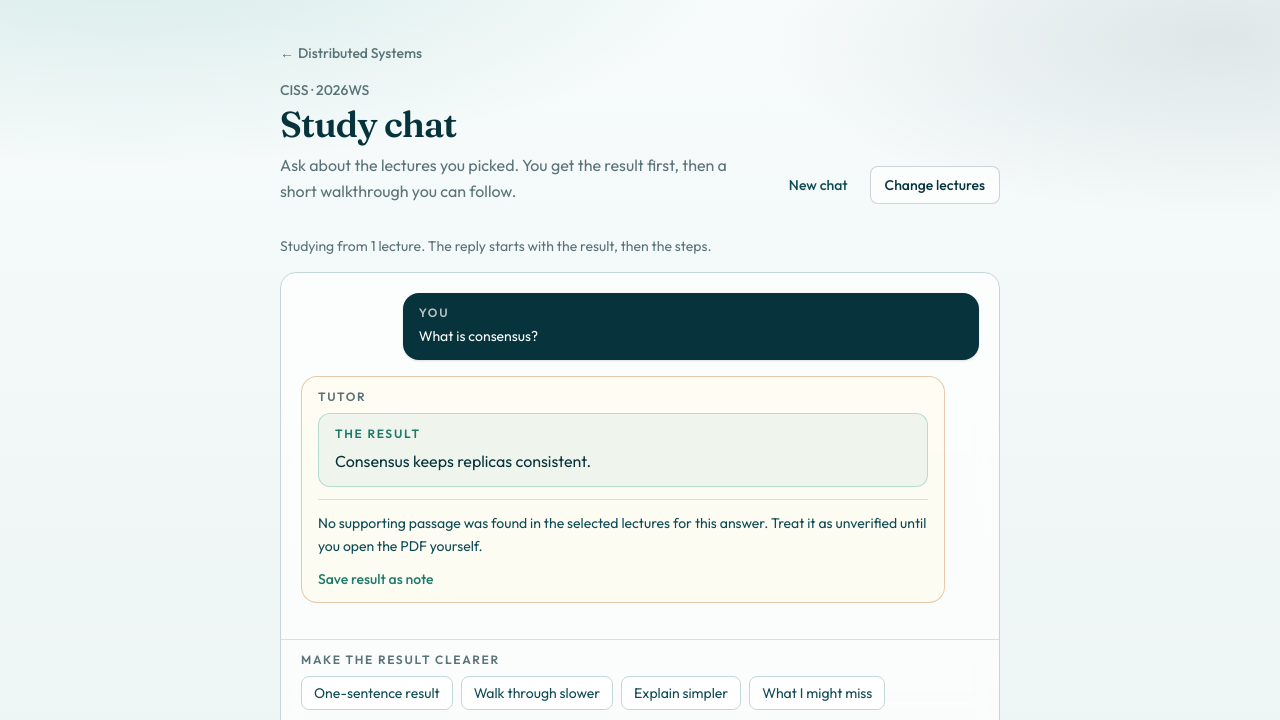
it: course study chat page › reopens the last chat and saves the result as a private note
The width and height of the screenshot is (1280, 720).
Expected: the heading "The result" is shown, [335,426,421,441]
Expected: the text "Consensus keeps replicas consistent." is shown, [335,451,591,471]
Click the button "Save result as note". click: (376, 579)
box: [318,569,434,589]
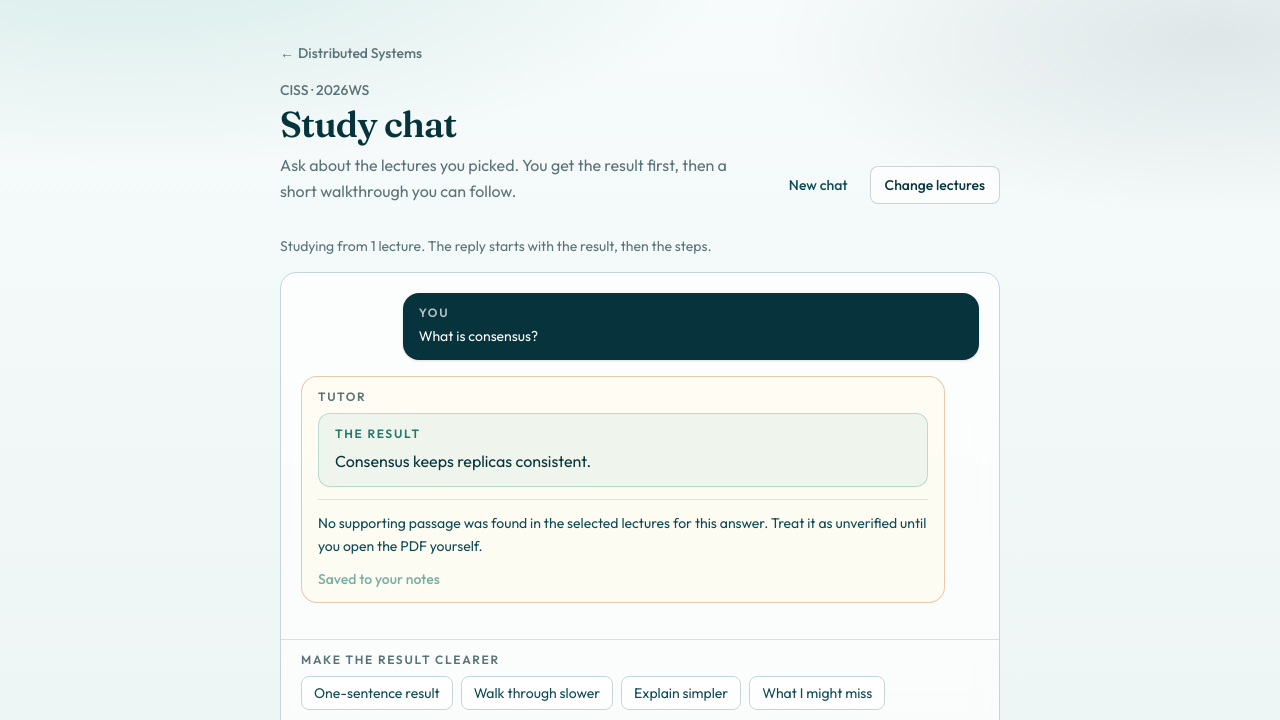
Expected: the button "Saved to your notes" is shown, [318,569,440,589]
